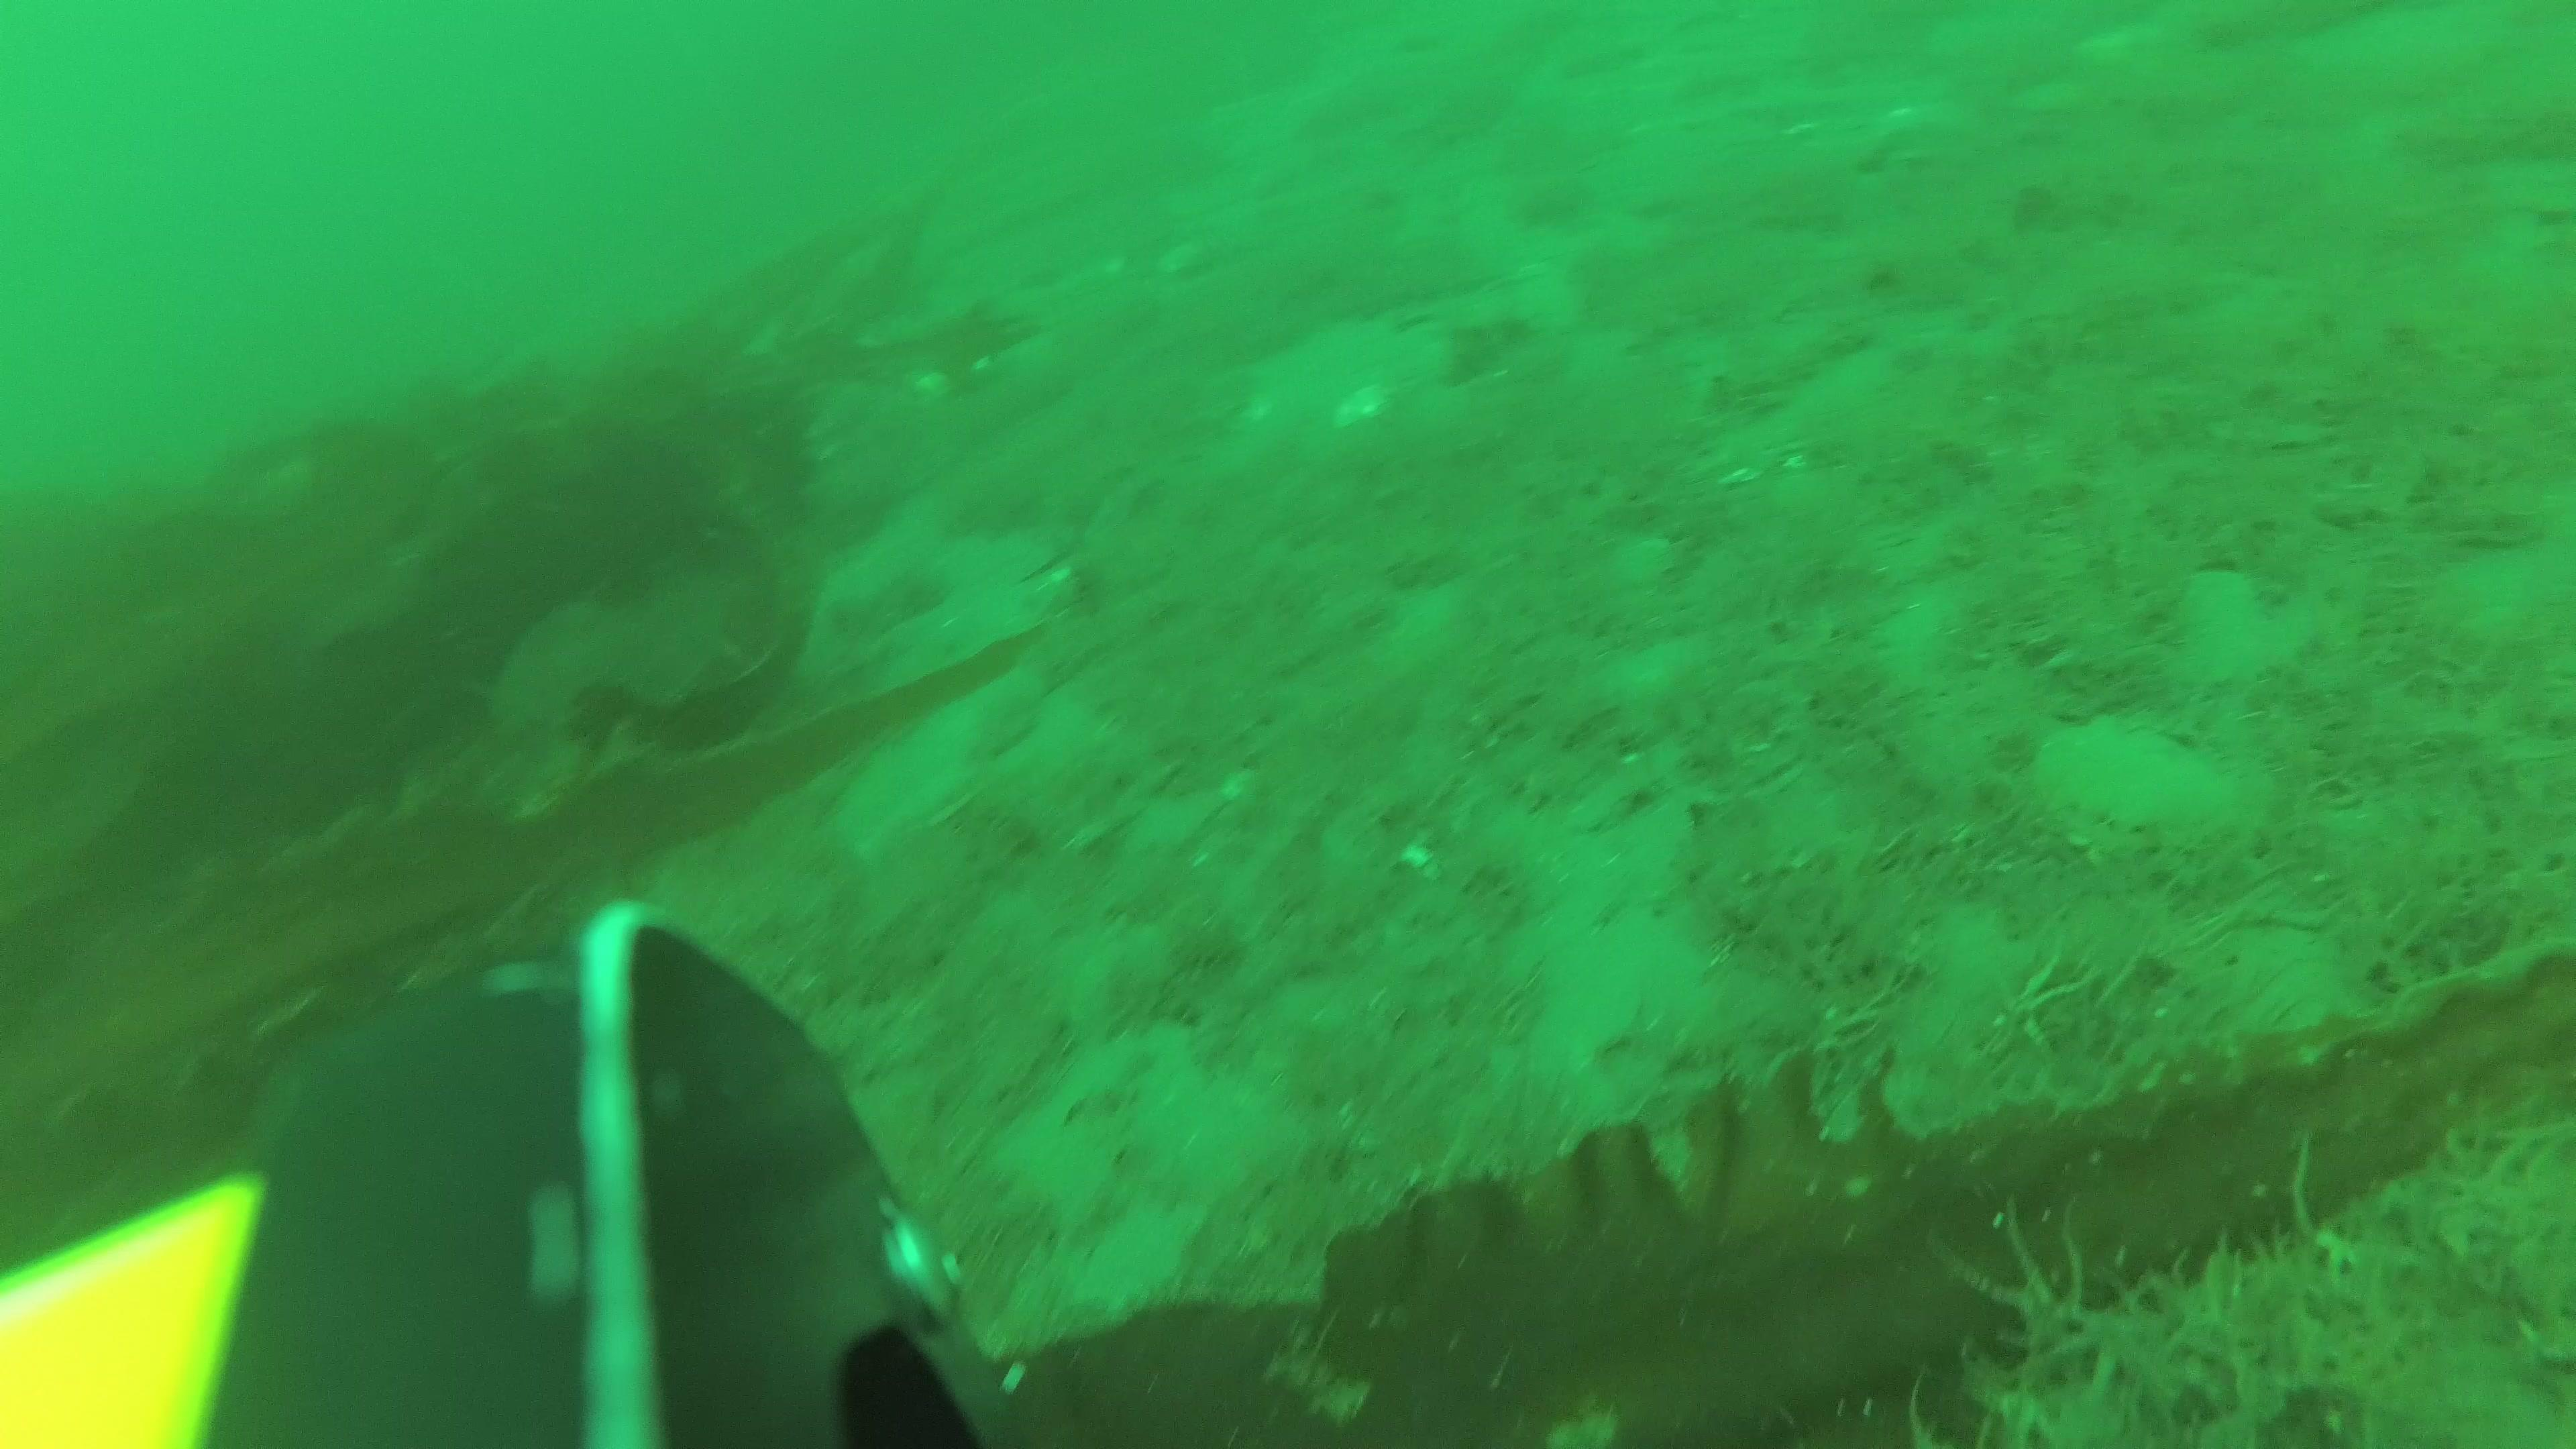scallop: (2015, 722, 2238, 846), (2160, 556, 2318, 688), (1332, 384, 1385, 425)
